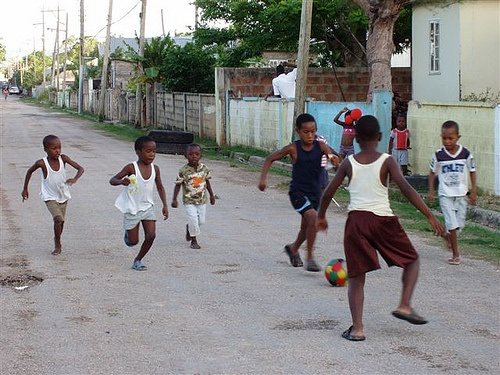Person: (330, 114, 435, 342), (268, 109, 335, 273), (20, 132, 91, 257), (109, 137, 169, 275), (431, 115, 480, 252), (173, 139, 216, 262)
